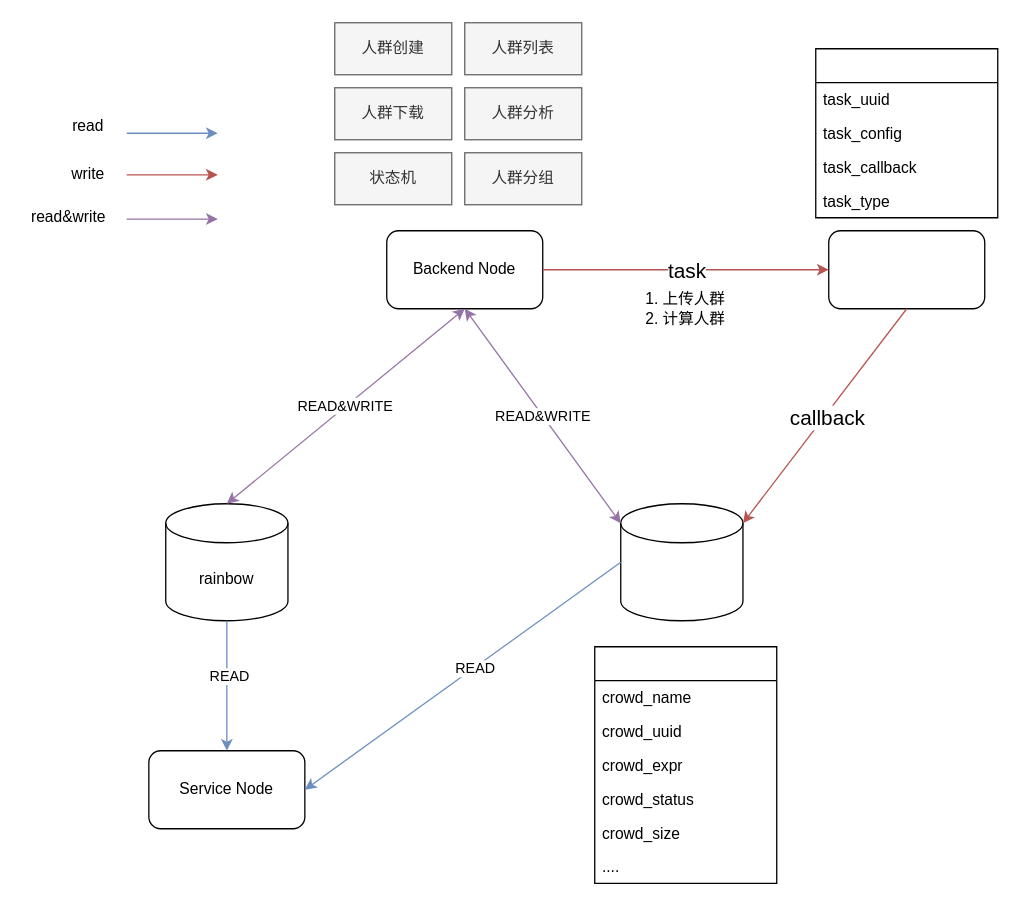
This 1020x910 diagram has some shape labels left out. Each missing label, with the box of its shape:
mysql: (619, 502, 743, 621)
optimus_async_task: (814, 47, 998, 218)
optimus_crowd: (593, 645, 777, 883)
Worker Node: (827, 229, 985, 309)
